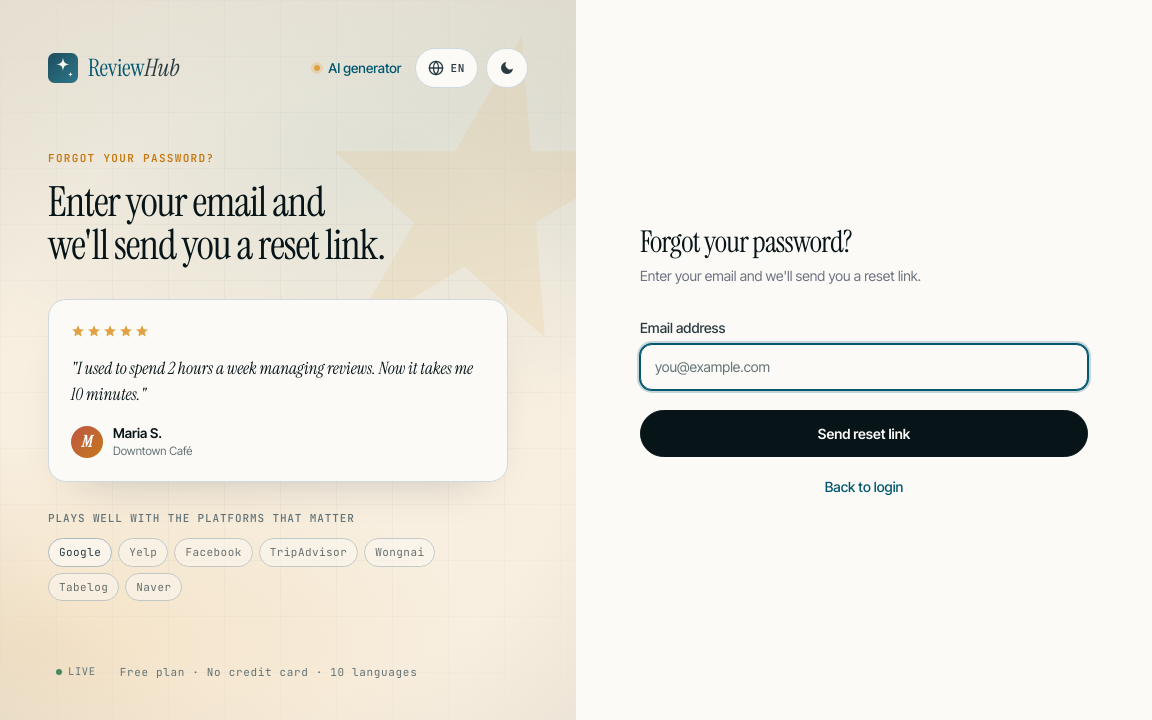
Test: ForgotPassword page › submits email and switches to the generic confirmation state
In the field labelled "Email address": (864, 366) [640,344,1088,390], type "u@example.com"
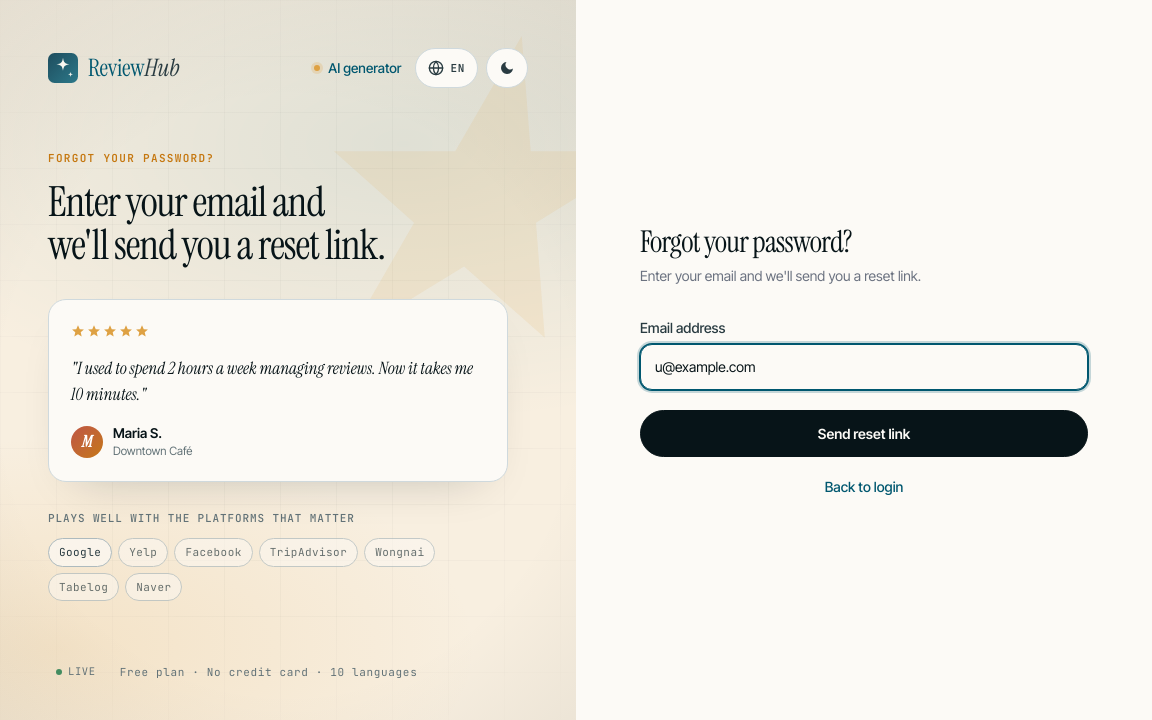
Click the button "Send reset link": (864, 433) [640,410,1088,456]
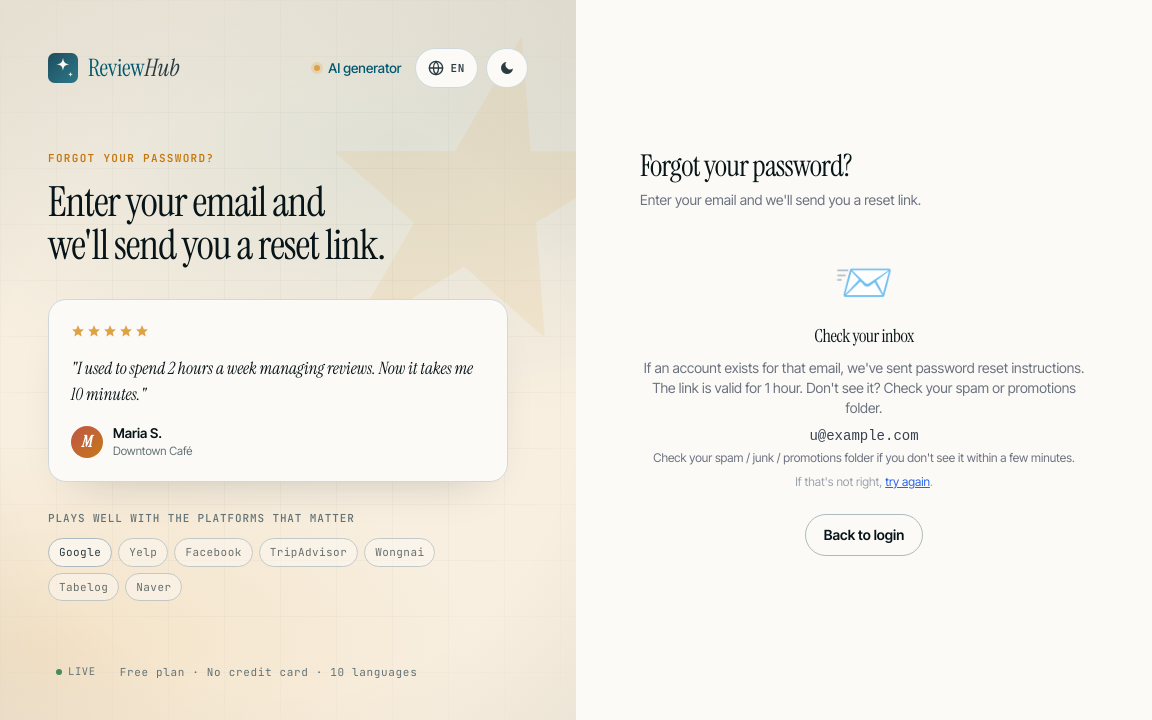
Result: the heading "Check your inbox" is shown at [814,324,914,348]
